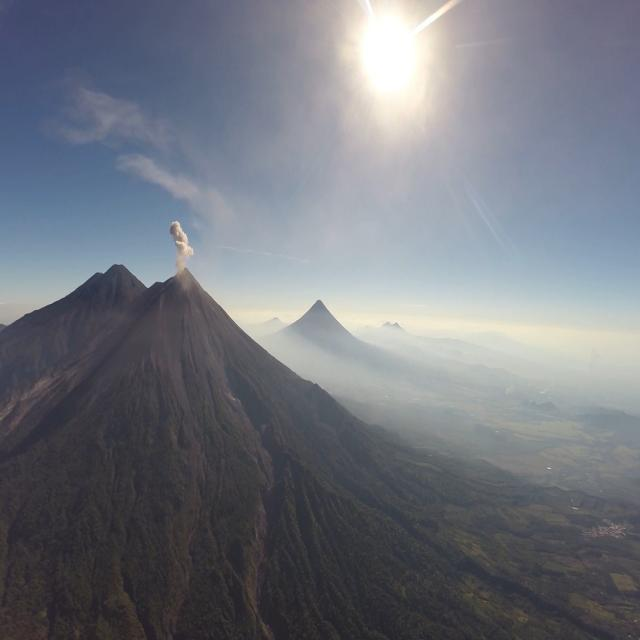Plume: (169, 218, 192, 268)
Summit: (162, 266, 208, 292)
